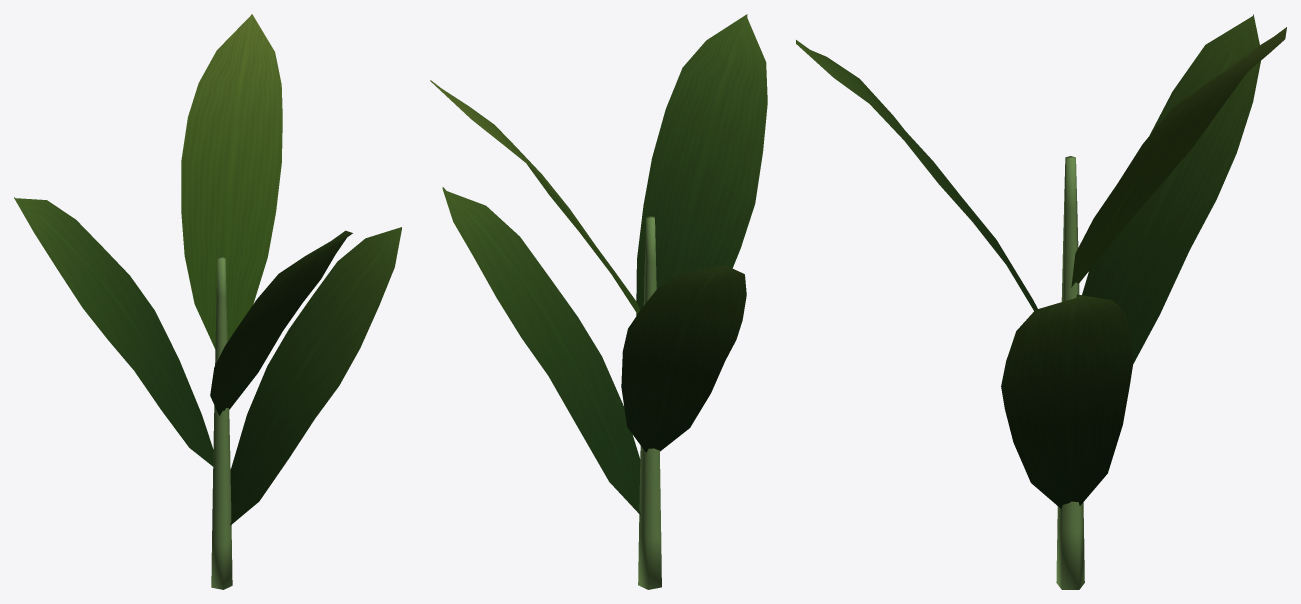
The model's file is tulip-04-lod.glb.
The picture shows the model from 3 angles, left to right: view 1: azimuth 30°, elevation 25°; view 2: azimuth 150°, elevation 25°; view 3: azimuth 270°, elevation 25°; orthographic projection. The views are drawn at different scales.
Parts seen in each view (by area): view 1: tulip_stage_04_leaf_veins.007, tulip_stage_04_young_leaf.007, tulip_stage_04_stem_fibres.007; view 2: tulip_stage_04_leaf_veins.007, tulip_stage_04_stem_fibres.007, tulip_stage_04_young_leaf.007; view 3: tulip_stage_04_leaf_veins.007, tulip_stage_04_young_leaf.007, tulip_stage_04_stem_fibres.007.
Boxes of the visible parts, box(x1,y1,x2,y2) form: tulip_stage_04_leaf_veins.007: box(14, 197, 401, 525); tulip_stage_04_young_leaf.007: box(181, 14, 282, 348); tulip_stage_04_stem_fibres.007: box(211, 257, 232, 589); tulip_stage_04_leaf_veins.007: box(442, 14, 767, 515); tulip_stage_04_stem_fibres.007: box(638, 216, 661, 589); tulip_stage_04_young_leaf.007: box(430, 80, 640, 313); tulip_stage_04_leaf_veins.007: box(796, 14, 1260, 508); tulip_stage_04_young_leaf.007: box(1071, 27, 1286, 287); tulip_stage_04_stem_fibres.007: box(1056, 156, 1084, 589).
Bounding box in the file's own units: 0.1294 × 0.1865 × 0.1316.
Materials: 3 (2 with a texture image).
